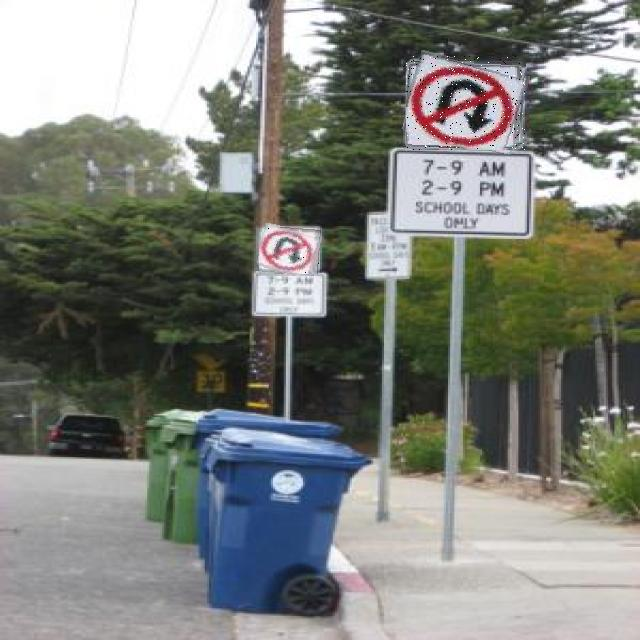no u turn: (406, 56, 526, 150), (259, 225, 321, 274)
